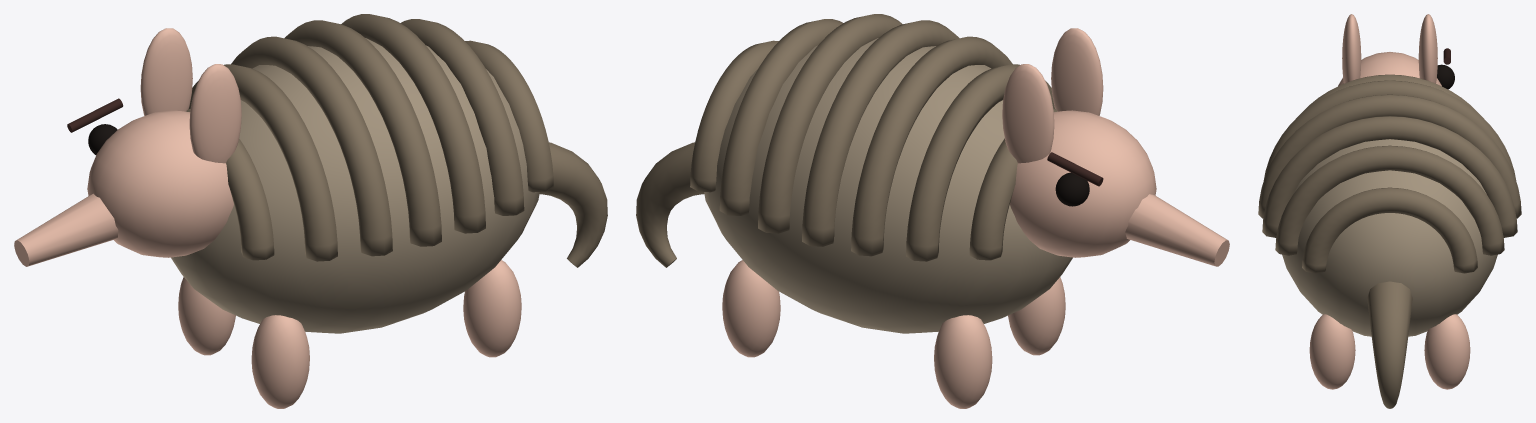
Rendered from piece_armadillo_awake.fbx.
3 renders of one model, left to right at view 1: azimuth 30°, elevation 25°; view 2: azimuth 150°, elevation 25°; view 3: azimuth 270°, elevation 25°, orthographic. The views are drawn at different scales.
Visible parts, largest first — view 1: piece_armadillo_awake; view 2: piece_armadillo_awake; view 3: piece_armadillo_awake.
Boxes of the visible parts, x1,y1,x2,y2 form: piece_armadillo_awake: (14, 14, 607, 408); piece_armadillo_awake: (636, 14, 1229, 408); piece_armadillo_awake: (1258, 14, 1521, 408).
Bounding box in the file's own units: 0.2769 × 0.157 × 0.1376.
